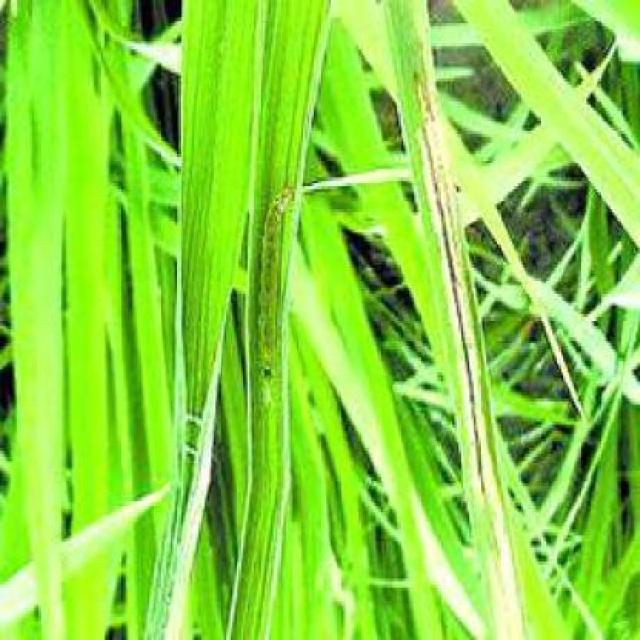leaf-folder: (223, 171, 295, 424)
